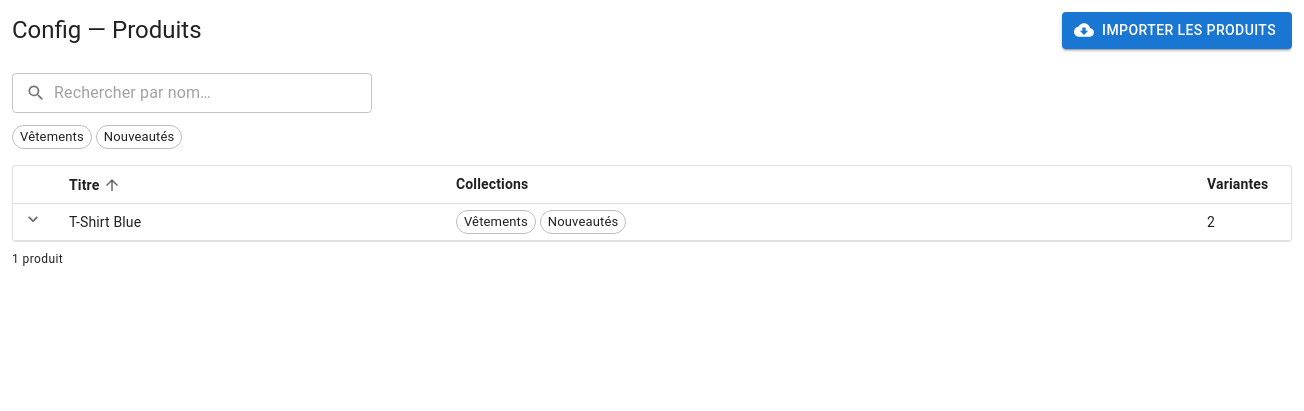
Scenario: ConfigProductsPage › shows error when reload after import fails
Expected: the text "T-Shirt Blue" is shown, [53,203,440,240]
Step 1. Click the button "Importer les produits" → click(1177, 30), box [1062,12,1292,48]
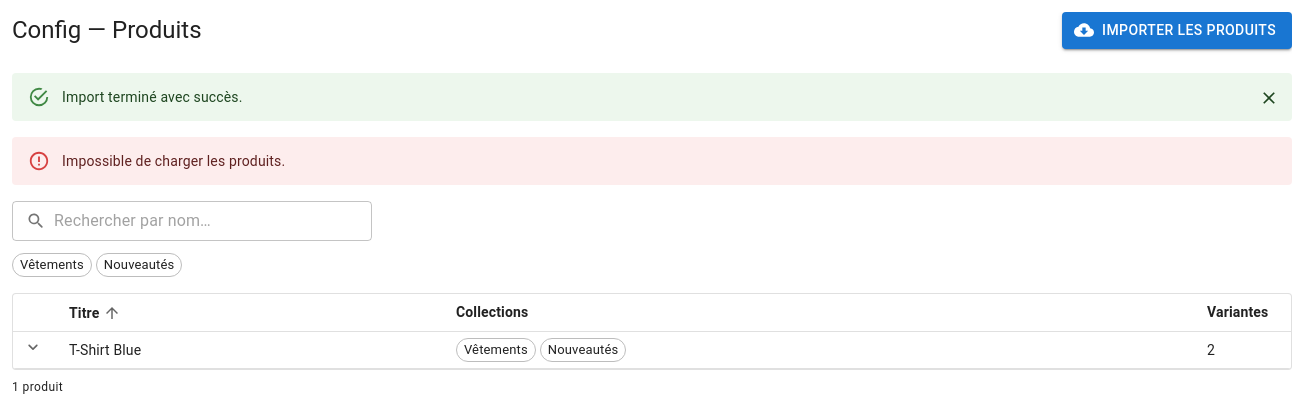
Now the text "Impossible de charger les produits." is shown, box [62,152,285,168]
